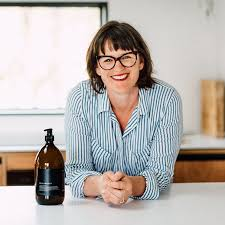bottle: (33, 125, 68, 207)
